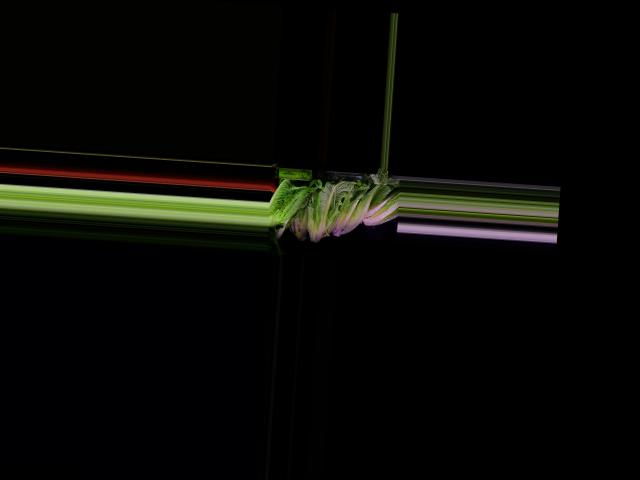lettuce: (359, 185, 401, 229)
